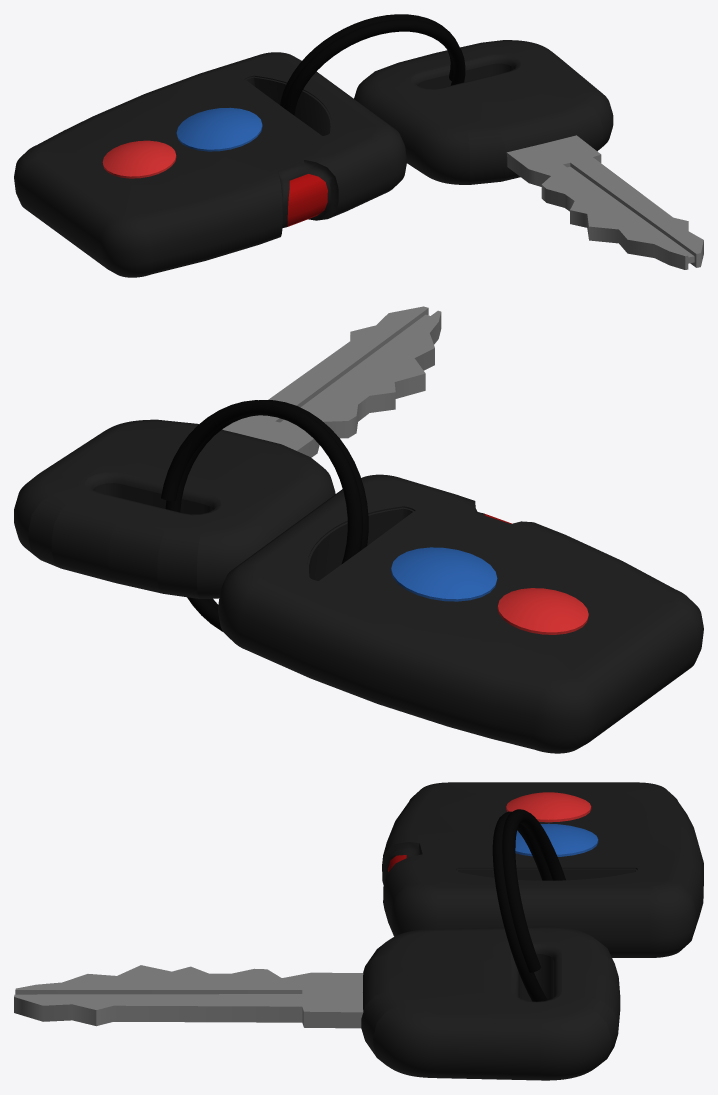
The model's file is carkey.fbx.
The picture shows the model from 3 angles, top to bottom: view 1: azimuth 30°, elevation 25°; view 2: azimuth 150°, elevation 25°; view 3: azimuth 270°, elevation 25°; orthographic projection. The views are drawn at different scales.
Visible parts, largest first — view 1: Alarm_fob, Keyhead, MetlKey, Ring, Button1, Button2; view 2: Alarm_fob, Keyhead, MetlKey, Ring, Button1, Button2; view 3: Alarm_fob, Keyhead, MetlKey, Ring, Button2, Button1.
Part boxes in pixels (x1,y1,x2,y2): Alarm_fob: (14, 52, 406, 277); Keyhead: (354, 40, 613, 184); MetlKey: (506, 135, 703, 269); Ring: (280, 14, 465, 115); Button1: (176, 107, 262, 151); Button2: (102, 140, 176, 178); Alarm_fob: (218, 474, 703, 753); Keyhead: (14, 419, 335, 598); MetlKey: (222, 306, 441, 457); Ring: (161, 400, 368, 631); Button1: (391, 547, 497, 601); Button2: (497, 588, 588, 634); Alarm_fob: (382, 782, 703, 957); Keyhead: (361, 926, 620, 1080); MetlKey: (14, 965, 363, 1028); Ring: (492, 809, 565, 1001); Button2: (506, 792, 591, 822); Button1: (515, 823, 598, 856).
Size of the model in its own units: 29.96 by 9.85 by 30.99.
